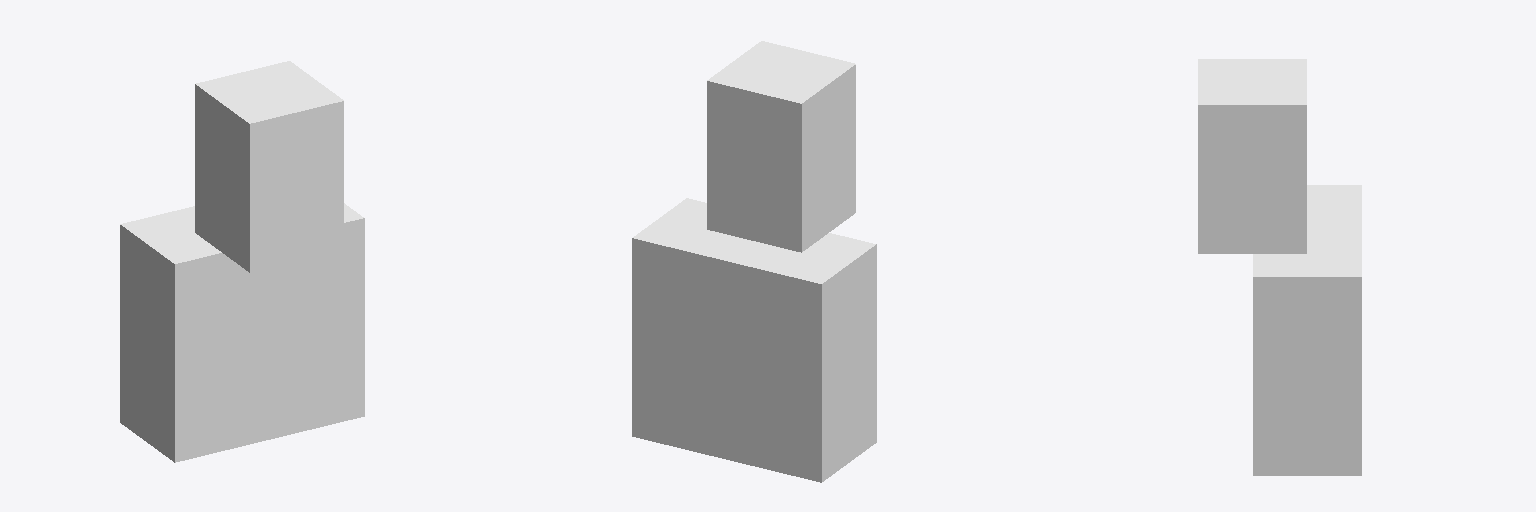
The model's file is body_002.obj.
3 views of the same model, side by side, from view 1: azimuth 30°, elevation 25°; view 2: azimuth 150°, elevation 25°; view 3: azimuth 270°, elevation 25° (orthographic).
Bounding box in the file's own units: 4 × 7 × 3.